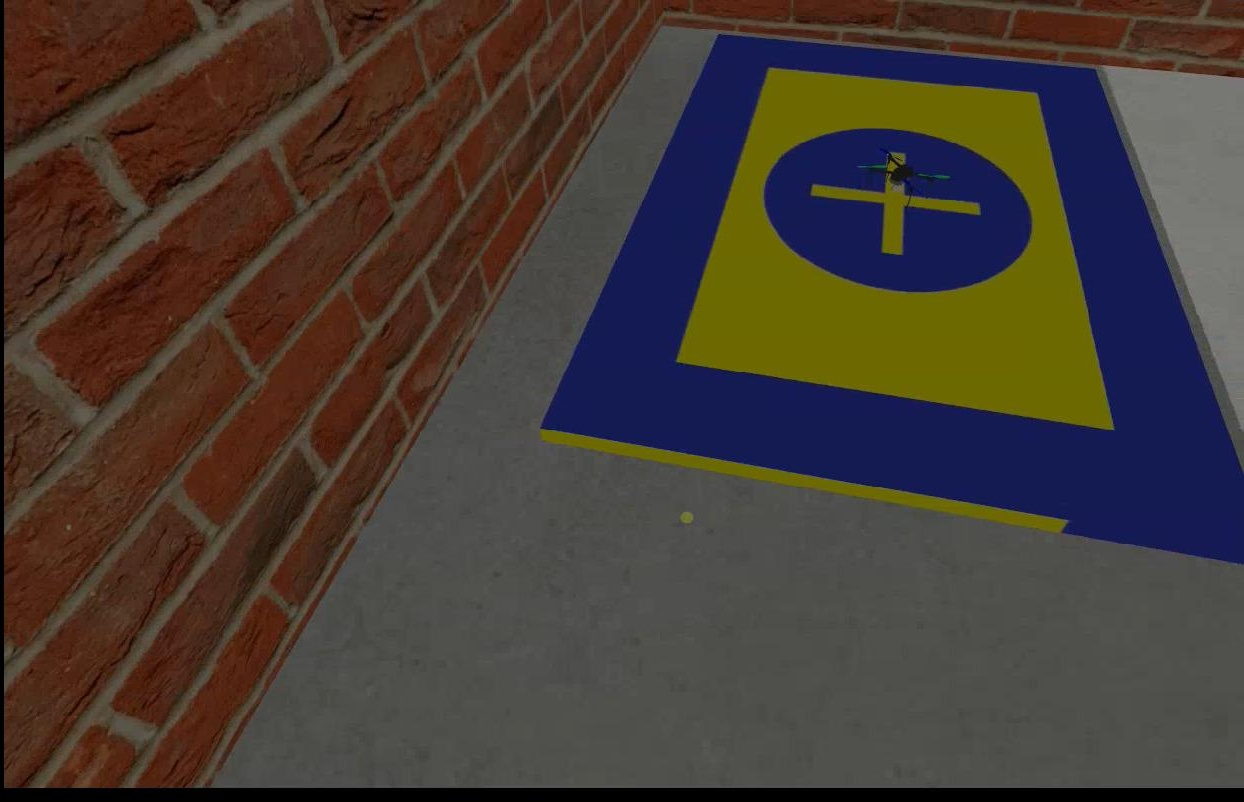large_base: (529, 32, 1242, 562)
